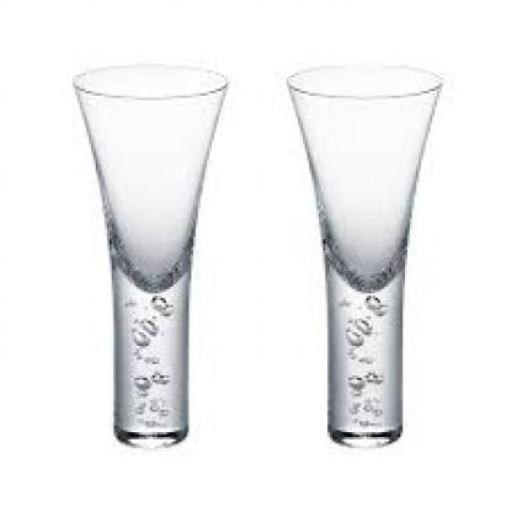glass: (285, 61, 439, 444), (73, 63, 225, 444)
